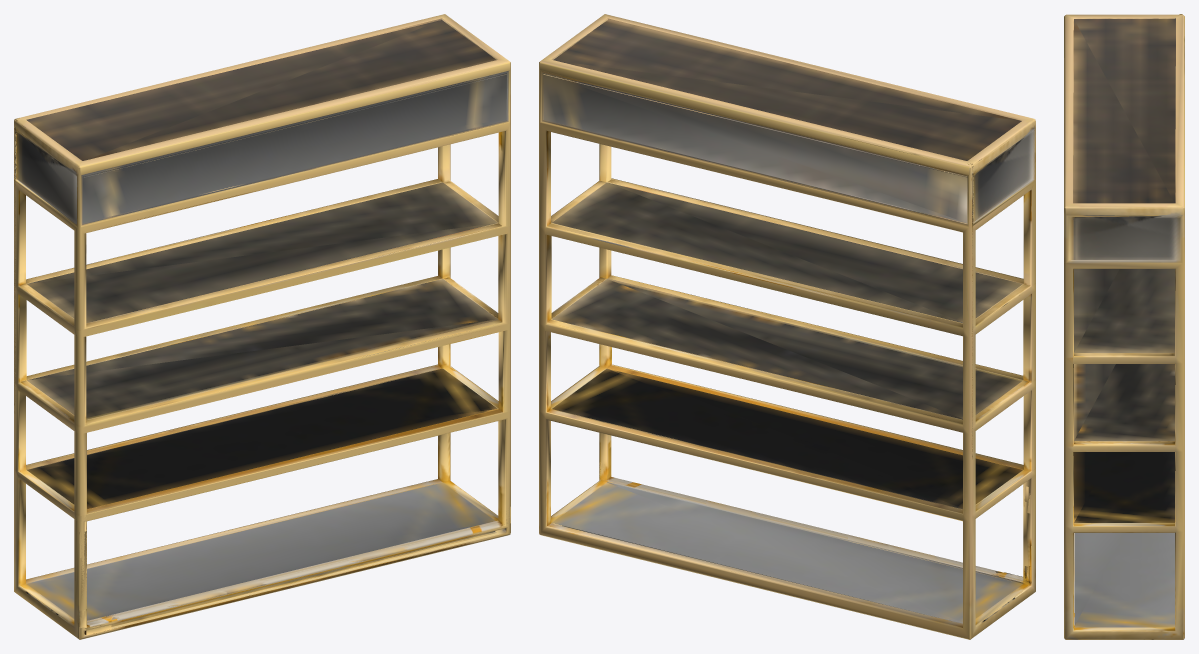
The model's file is golden_shelving_unit_0127182521_texture.glb.
3 views of the same model, side by side, from view 1: azimuth 30°, elevation 25°; view 2: azimuth 150°, elevation 25°; view 3: azimuth 270°, elevation 25° (orthographic). The views are drawn at different scales.
Visible parts, largest first — view 1: Mesh_0; view 2: Mesh_0; view 3: Mesh_0.
Part boxes in pixels (x1,y1,x2,y2): Mesh_0: (14,14,510,639); Mesh_0: (539,14,1035,639); Mesh_0: (1064,14,1184,639).
Size of the model in its own units: 1.75 by 1.83 by 0.4619.
1 material, 1 textured.
